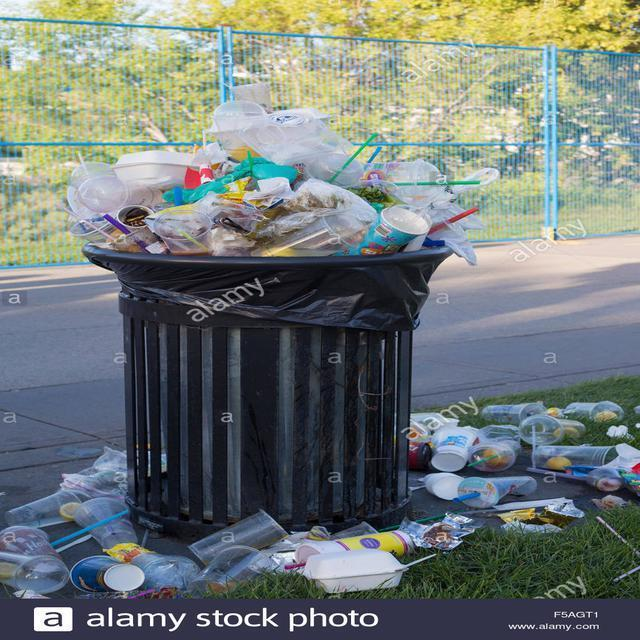garbage: (78, 93, 458, 257), (412, 390, 639, 524), (114, 502, 416, 591), (0, 438, 150, 597)
